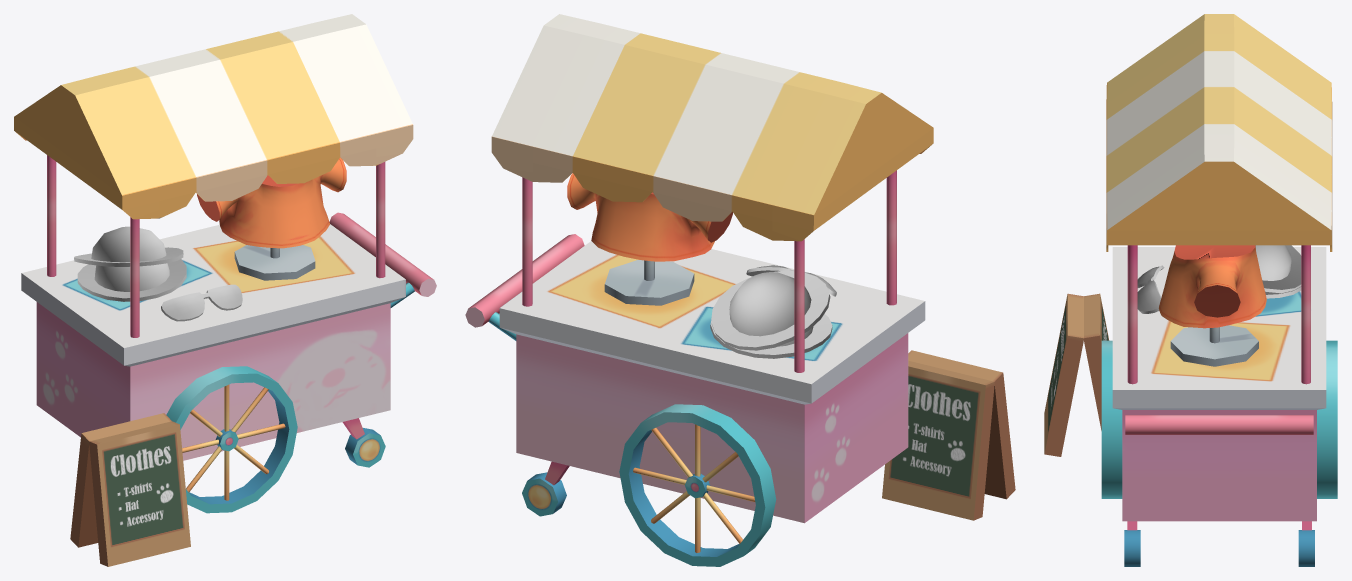
The model's file is market.fbx.
The picture shows the model from 3 angles, left to right: view 1: azimuth 30°, elevation 25°; view 2: azimuth 150°, elevation 25°; view 3: azimuth 270°, elevation 25°; orthographic projection. The views are drawn at different scales.
Visible parts, largest first — view 1: market, clothessample; view 2: market, clothessample; view 3: market, clothessample.
Part boxes in pixels (<box>): market: <box>14,14,436,566</box>; clothessample: <box>74,157,346,321</box>; market: <box>465,14,1015,566</box>; clothessample: <box>567,173,836,358</box>; market: <box>1044,14,1337,566</box>; clothessample: <box>1137,245,1301,328</box>.
Size of the model in its own units: 246 by 261 by 164.
